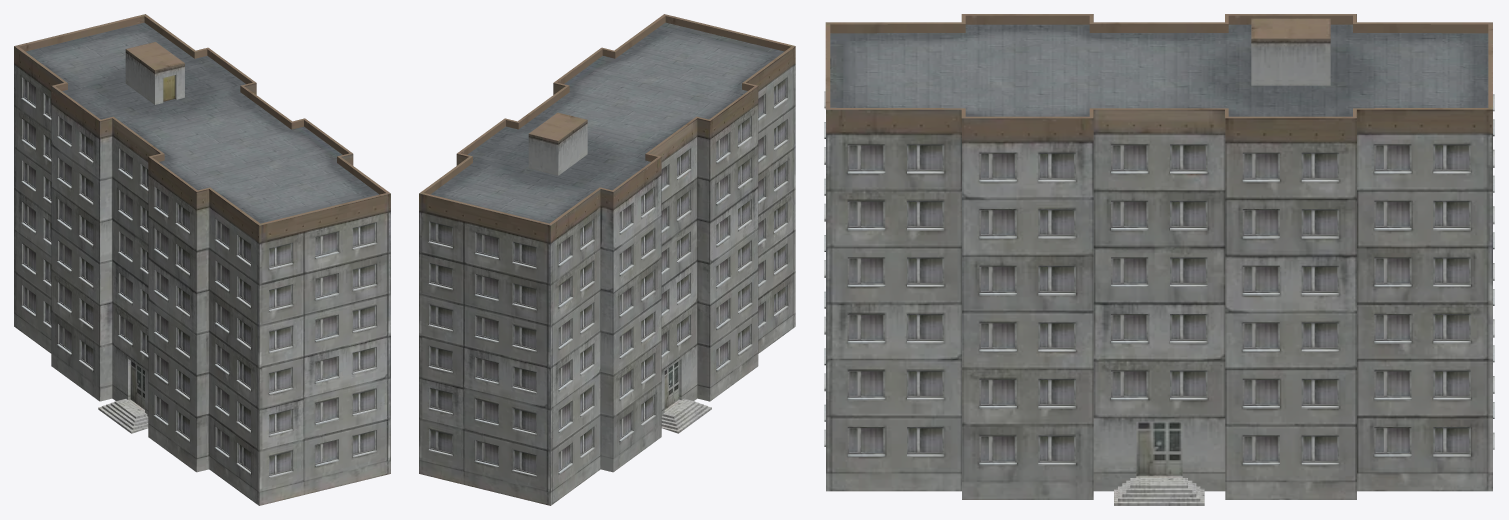
Rendered from apt-a.glb.
3 views of the same model, side by side, from view 1: azimuth 30°, elevation 25°; view 2: azimuth 150°, elevation 25°; view 3: azimuth 270°, elevation 25° (orthographic). The views are drawn at different scales.
Visible parts, largest first — view 1: BUILDING_lambert1_0; view 2: BUILDING_lambert1_0; view 3: BUILDING_lambert1_0.
Part boxes in pixels (bbox=[...]): BUILDING_lambert1_0: bbox=[14, 14, 390, 505]; BUILDING_lambert1_0: bbox=[419, 14, 795, 505]; BUILDING_lambert1_0: bbox=[824, 14, 1494, 505].
Size of the model in its own units: 0.6832 by 1.15 by 1.66.
1 material, 1 textured.
